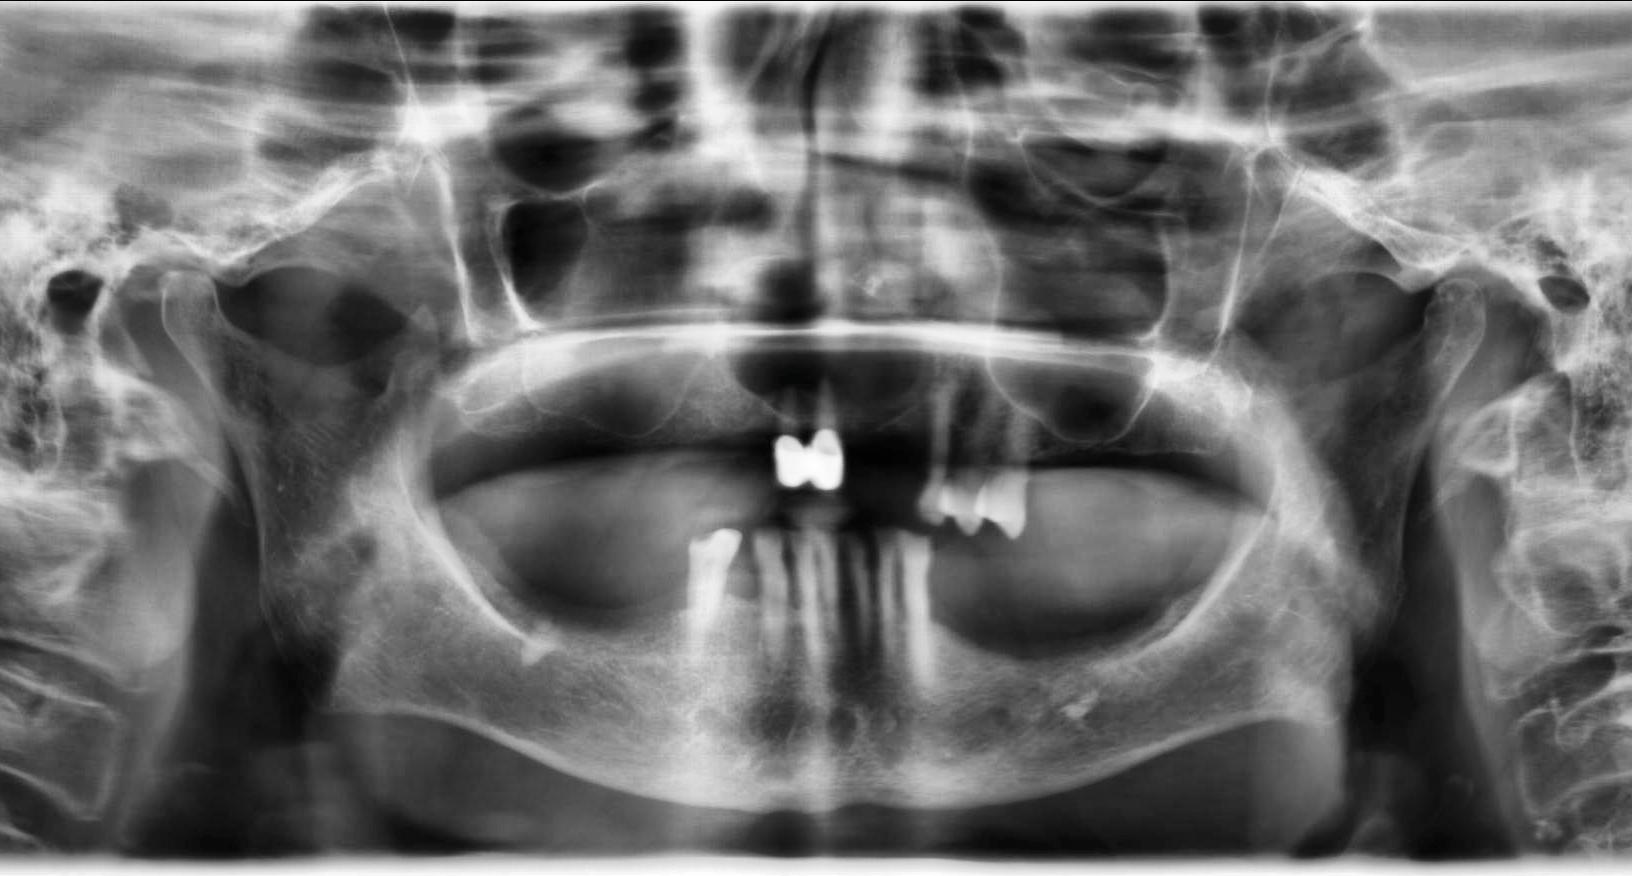radikuler: (724, 253, 941, 430)
